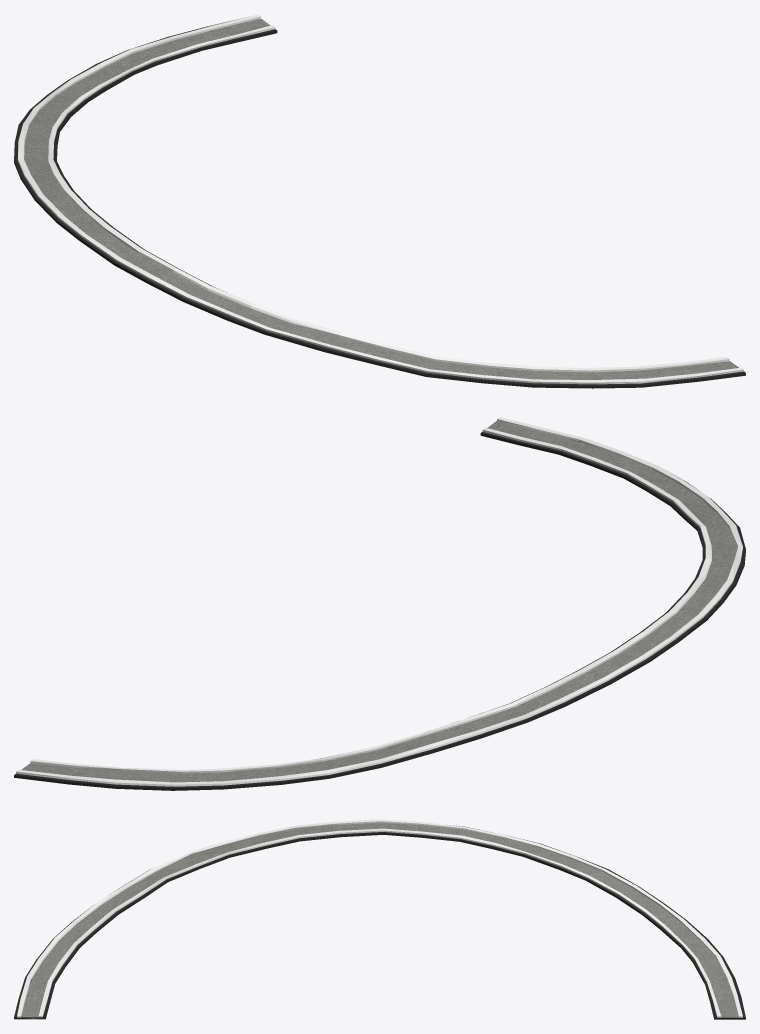
The model's file is BigRoad.FBX.
The picture shows the model from 3 angles, top to bottom: view 1: azimuth 30°, elevation 25°; view 2: azimuth 150°, elevation 25°; view 3: azimuth 270°, elevation 25°; orthographic projection. The views are drawn at different scales.
Visible parts, largest first — view 1: BigRoad; view 2: BigRoad; view 3: BigRoad.
Part boxes in pixels (left/top/right/bottom): BigRoad: left=14, top=14, right=745, bottom=388; BigRoad: left=14, top=417, right=745, bottom=790; BigRoad: left=14, top=819, right=745, bottom=1019.
Bounding box in the file's own units: 3437 × 495 × 6904.
